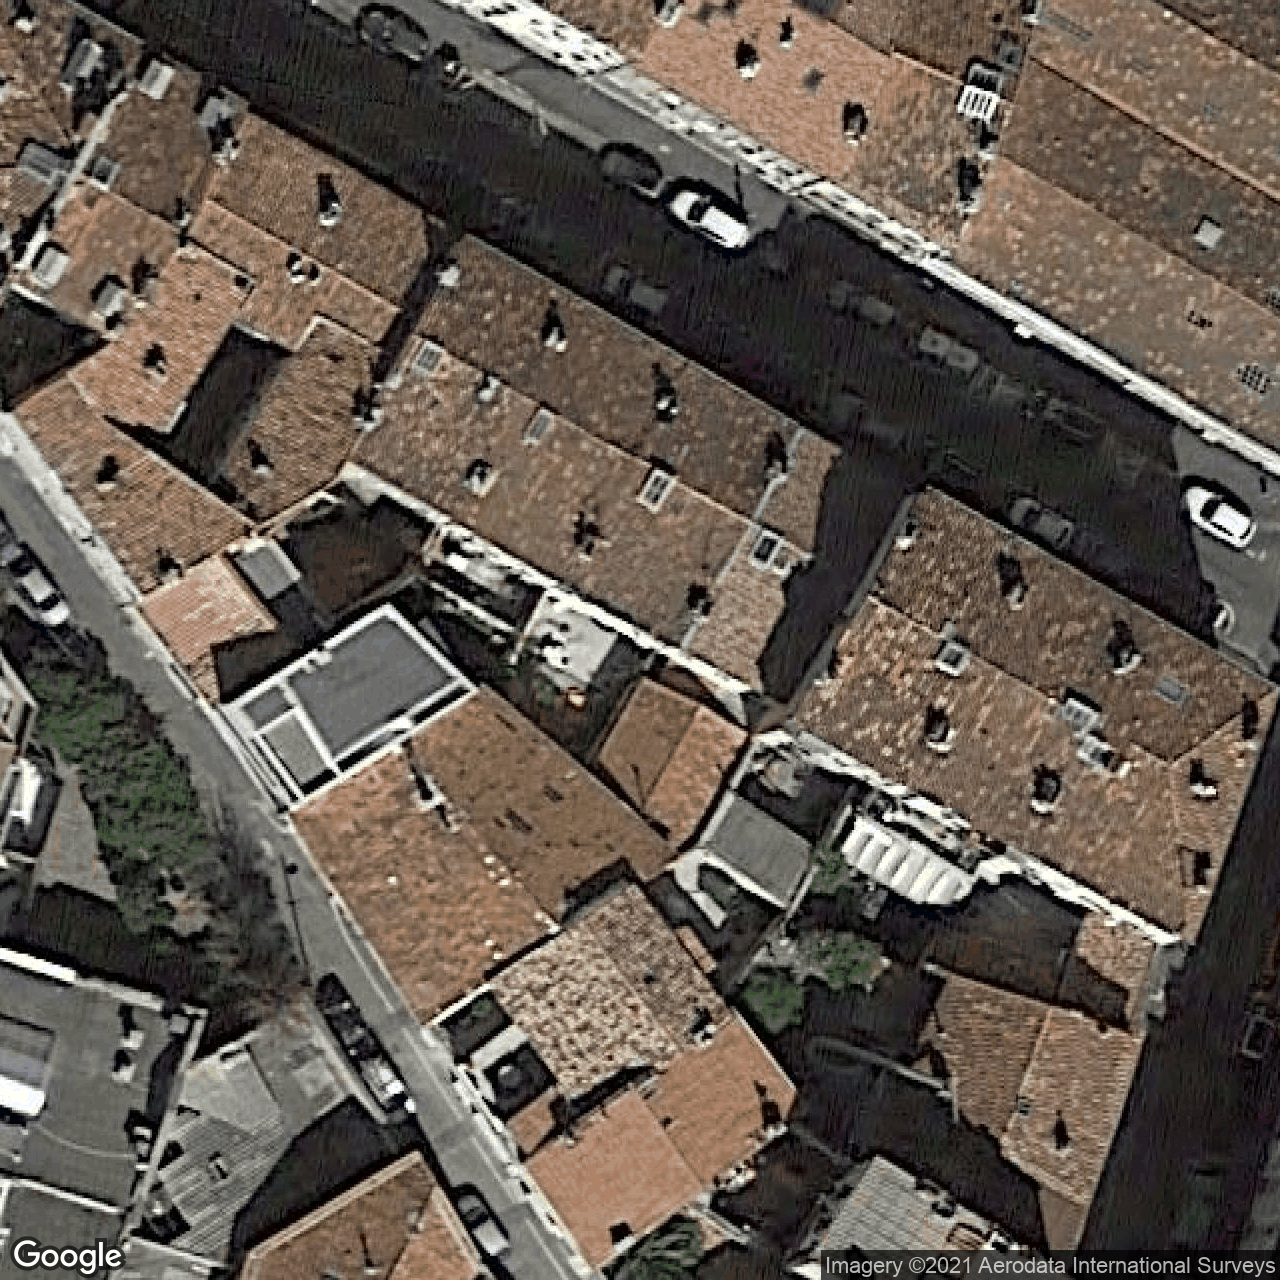Tree: (81, 762, 207, 869), (36, 680, 130, 755), (802, 919, 892, 996), (738, 971, 811, 1028), (20, 647, 86, 704), (114, 881, 175, 937)
